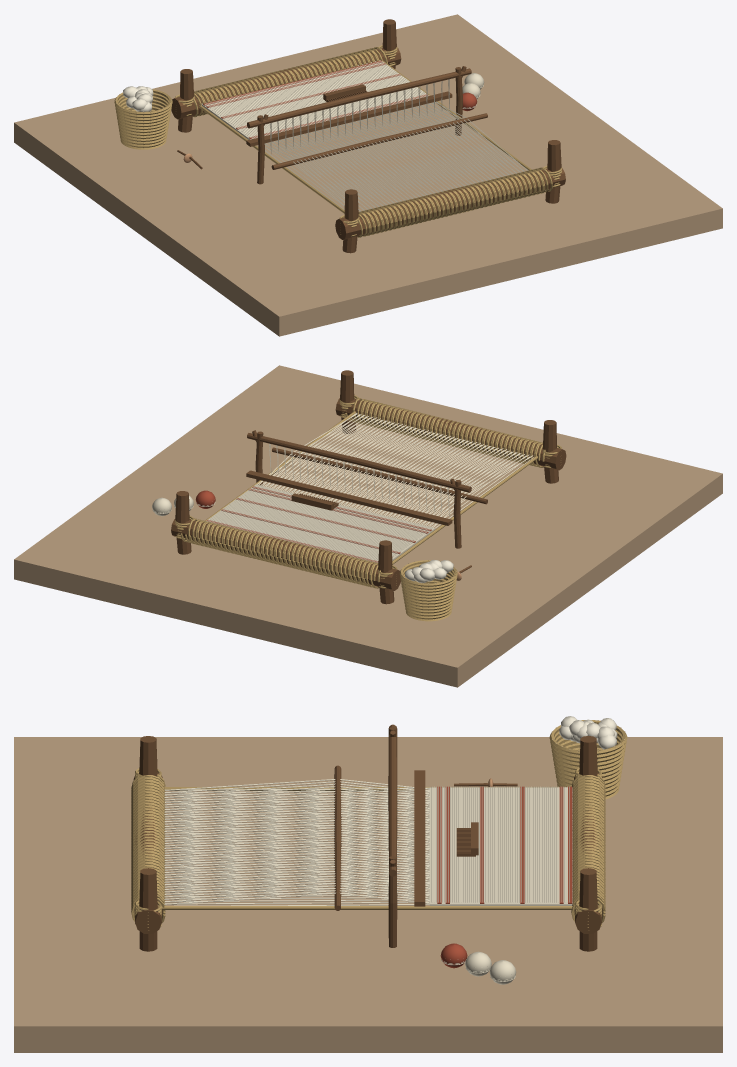
The model's file is ground_loom.glb.
The picture shows the model from 3 angles, top to bottom: view 1: azimuth 30°, elevation 25°; view 2: azimuth 150°, elevation 25°; view 3: azimuth 270°, elevation 25°; orthographic projection. The views are drawn at different scales.
Parts seen in each view (by area): view 1: Compacted courtyard ground, Loom / unfinished wool cloth, Loom / cloth and warp beams, Loom / cloth and warp beams.001, Loom / heddle rod, Loom / sword beater, Loom / shed stick, Loom / ground stake.001, Loom / ground stake, Loom / ground stake.002, Loom / tension edge cord; view 2: Compacted courtyard ground, Loom / unfinished wool cloth, Loom / cloth and warp beams.001, Loom / cloth and warp beams, Loom / sword beater, Loom / heddle rod, Loom / shed stick, Loom / ground stake.002, Loom / ground stake.003, Loom / ground stake, Loom / ground stake.001, Loom / tension edge cord; view 3: Compacted courtyard ground, Loom / unfinished wool cloth, Loom / sword beater, Loom / tension edge cord.001, Loom / heddle rod, Loom / ground stake.001, Loom / ground stake.003, Loom / shed stick, Loom / cloth and warp beams, Loom / cloth and warp beams.001, Loom / heddle fork.001, Loom / ground stake (+7 smaller).
Boxes of the visible parts, box(x1,y1,x2,y2) form: Compacted courtyard ground: box(14, 14, 722, 336); Loom / unfinished wool cloth: box(201, 60, 428, 139); Loom / cloth and warp beams: box(335, 168, 565, 239); Loom / cloth and warp beams.001: box(171, 48, 401, 119); Loom / heddle rod: box(247, 68, 471, 128); Loom / sword beater: box(246, 91, 452, 146); Loom / shed stick: box(271, 113, 487, 169); Loom / ground stake.001: box(545, 140, 561, 203); Loom / ground stake: box(342, 189, 358, 253); Loom / ground stake.002: box(178, 69, 193, 132); Loom / tension edge cord: box(199, 105, 344, 213); Compacted courtyard ground: box(14, 365, 722, 687); Loom / unfinished wool cloth: box(209, 485, 434, 560); Loom / cloth and warp beams.001: box(171, 519, 400, 590); Loom / cloth and warp beams: box(335, 398, 566, 470); Loom / sword beater: box(246, 470, 452, 525); Loom / heddle rod: box(247, 433, 471, 492); Loom / shed stick: box(272, 447, 487, 504); Loom / ground stake.002: box(378, 540, 394, 604); Loom / ground stake.003: box(175, 491, 191, 554); Loom / ground stake: box(543, 420, 558, 483); Loom / ground stake.001: box(340, 370, 355, 433); Loom / tension edge cord: box(392, 456, 537, 564); Compacted courtyard ground: box(14, 737, 722, 1052); Loom / unfinished wool cloth: box(429, 787, 572, 905); Loom / sword beater: box(414, 770, 425, 906); Loom / tension edge cord.001: box(161, 906, 575, 909); Loom / heddle rod: box(388, 724, 397, 876); Loom / ground stake.001: box(139, 868, 157, 951); Loom / ground stake.003: box(579, 868, 597, 951); Loom / shed stick: box(334, 765, 341, 910); Loom / cloth and warp beams: box(133, 772, 162, 933); Loom / cloth and warp beams.001: box(574, 772, 602, 933); Loom / heddle fork.001: box(388, 856, 397, 947); Loom / ground stake: box(139, 736, 157, 776).
Size of the model in its own units: 5.6 by 1.05 by 5.8.
